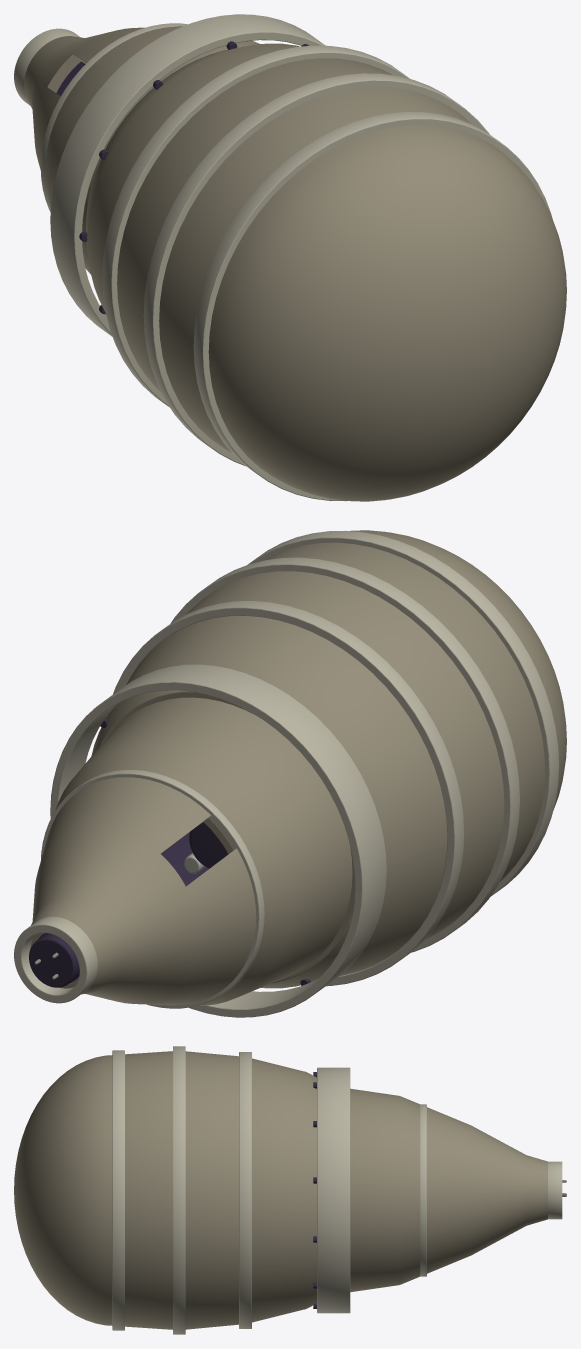
The picture shows the model from 3 angles, top to bottom: view 1: azimuth 30°, elevation 25°; view 2: azimuth 150°, elevation 25°; view 3: azimuth 270°, elevation 25°; orthographic projection. The views are drawn at different scales.
Parts seen in each view (by area): view 1: Continuous rounded front cap, Unbroken enclosure wall, Broad mounting collar, Enclosure reinforcing band, Enclosure reinforcing band.001, Tapered connector pressure shell, Rear enclosure, Enclosure reinforcing band.002, Connector service ring, Connector terminal lip; view 2: Tapered connector pressure shell, Unbroken enclosure wall, Rear enclosure, Broad mounting collar, Enclosure reinforcing band.002, Enclosure reinforcing band.001, Enclosure reinforcing band, Continuous rounded front cap, Connector service ring, Connector terminal lip, Recessed connector interior, Shield axial equipment spine; view 3: Unbroken enclosure wall, Tapered connector pressure shell, Continuous rounded front cap, Rear enclosure, Broad mounting collar, Enclosure reinforcing band.001, Enclosure reinforcing band, Enclosure reinforcing band.002, Connector service ring, Connector terminal lip.
Part boxes in pixels (<box>): Continuous rounded front cap: <box>208,124,566,501</box>; Unbroken enclosure wall: <box>117,58,470,452</box>; Broad mounting collar: <box>50,14,325,336</box>; Enclosure reinforcing band: <box>193,111,552,501</box>; Enclosure reinforcing band.001: <box>143,73,489,466</box>; Tapered connector pressure shell: <box>24,26,260,274</box>; Rear enclosure: <box>86,43,299,312</box>; Enclosure reinforcing band.002: <box>102,45,409,407</box>; Connector service ring: <box>40,23,187,211</box>; Connector terminal lip: <box>14,28,83,105</box>; Tapered connector pressure shell: <box>30,697,352,1005</box>; Unbroken enclosure wall: <box>161,542,544,939</box>; Rear enclosure: <box>91,616,447,988</box>; Broad mounting collar: <box>50,664,386,1017</box>; Enclosure reinforcing band.002: <box>106,601,464,986</box>; Enclosure reinforcing band.001: <box>170,557,519,952</box>; Enclosure reinforcing band: <box>247,530,558,896</box>; Continuous rounded front cap: <box>350,530,566,810</box>; Connector service ring: <box>41,770,264,1008</box>; Connector terminal lip: <box>14,916,97,1003</box>; Recessed connector interior: <box>29,933,79,987</box>; Shield axial equipment spine: <box>189,822,228,868</box>; Unbroken enclosure wall: <box>125,1051,238,1329</box>; Tapered connector pressure shell: <box>350,1088,547,1292</box>; Continuous rounded front cap: <box>14,1055,112,1325</box>; Rear enclosure: <box>252,1058,316,1322</box>; Broad mounting collar: <box>317,1067,350,1313</box>; Enclosure reinforcing band.001: <box>173,1046,185,1334</box>; Enclosure reinforcing band: <box>112,1050,124,1330</box>; Enclosure reinforcing band.002: <box>239,1052,251,1328</box>; Connector service ring: <box>420,1104,426,1276</box>; Connector terminal lip: <box>548,1161,562,1219</box>.
Bounding box in the file's own units: 2.04 × 2.04 × 3.91.
